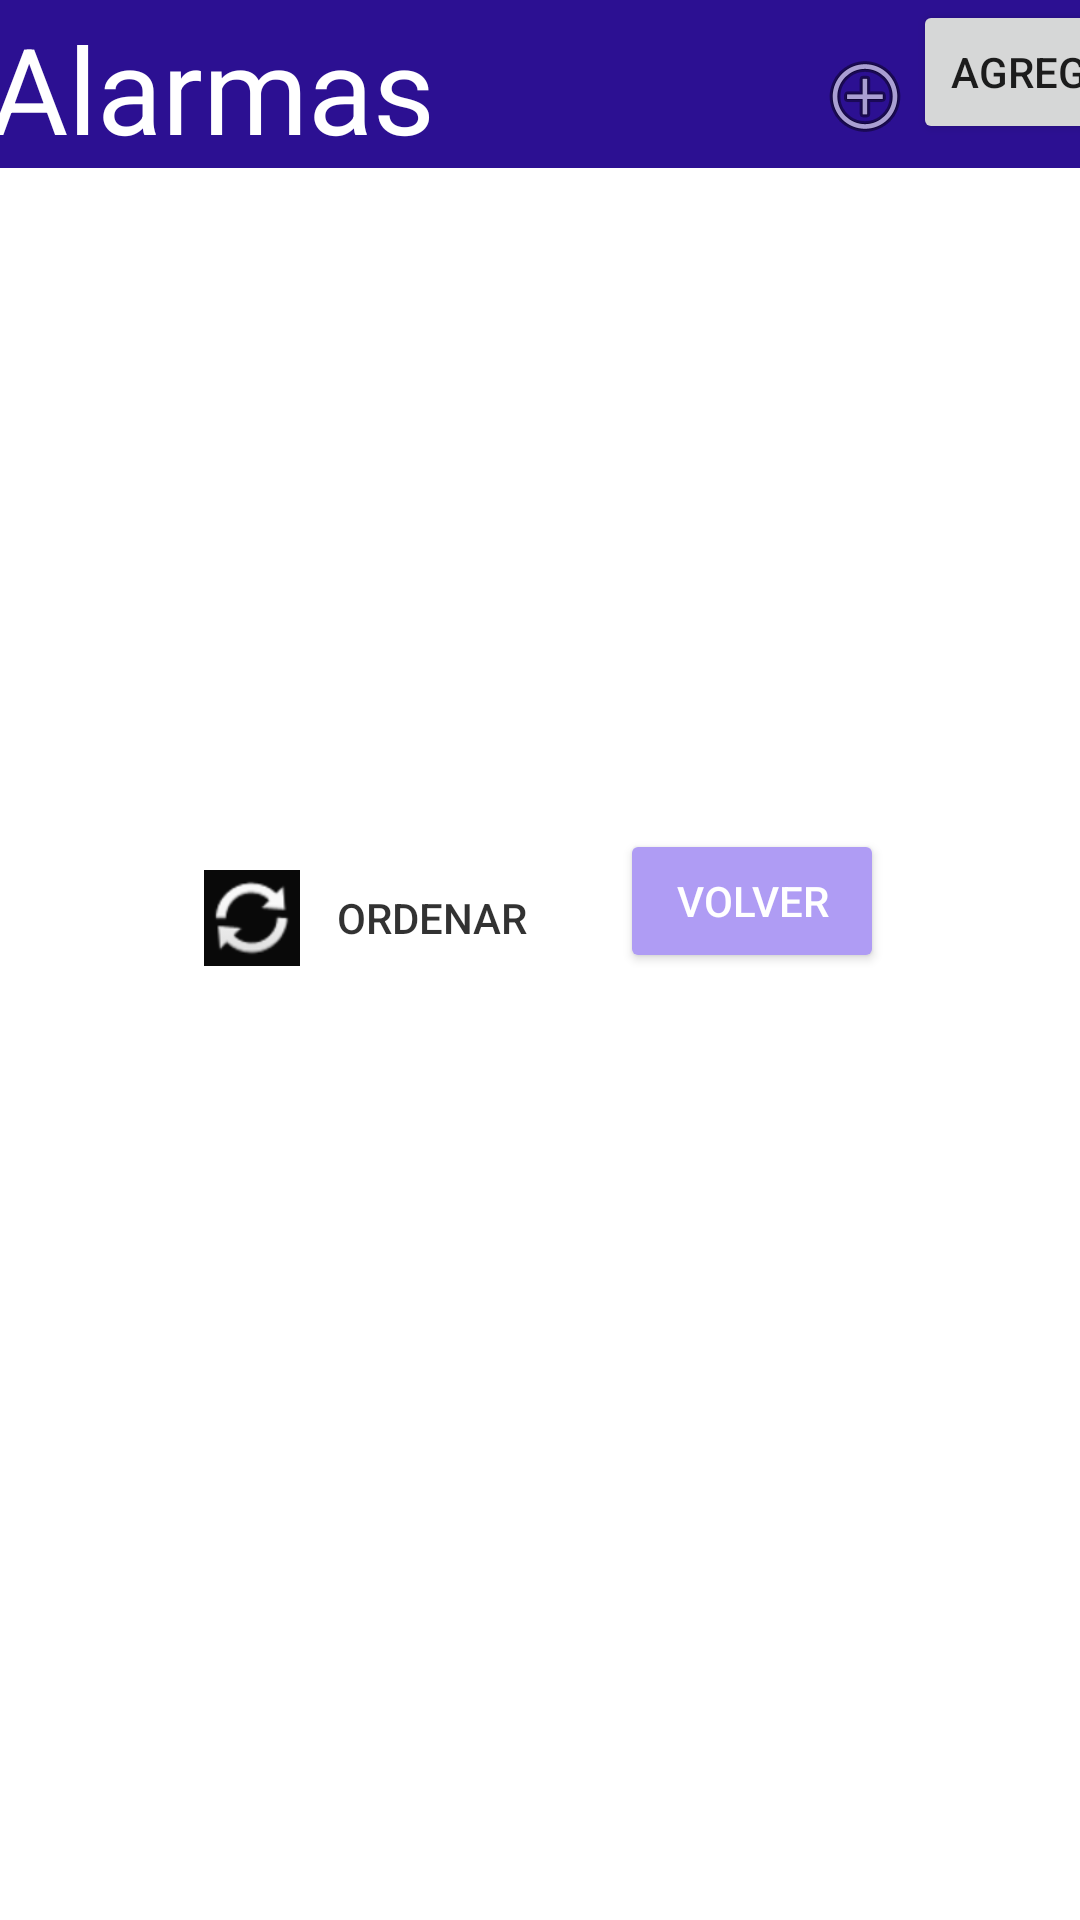

Where icons sit on this 1080x1920 app screen, as (x1, y1, x2, y2):
add: (830, 61, 900, 132)
popup sync: (204, 870, 300, 966)
